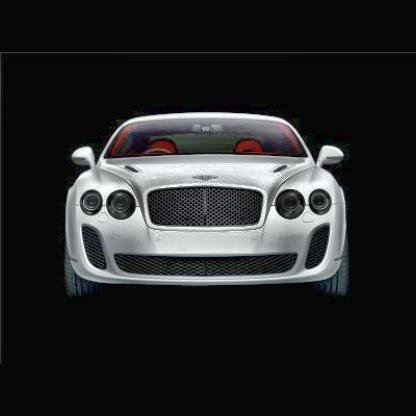Bentley Continental Supersports Conv- Convertible 2012: (64, 113, 348, 298)
